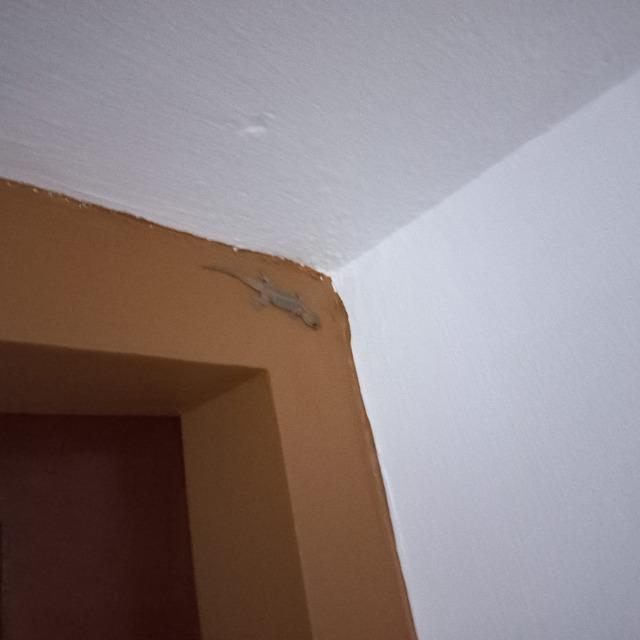lizard: (200, 259, 324, 335)
